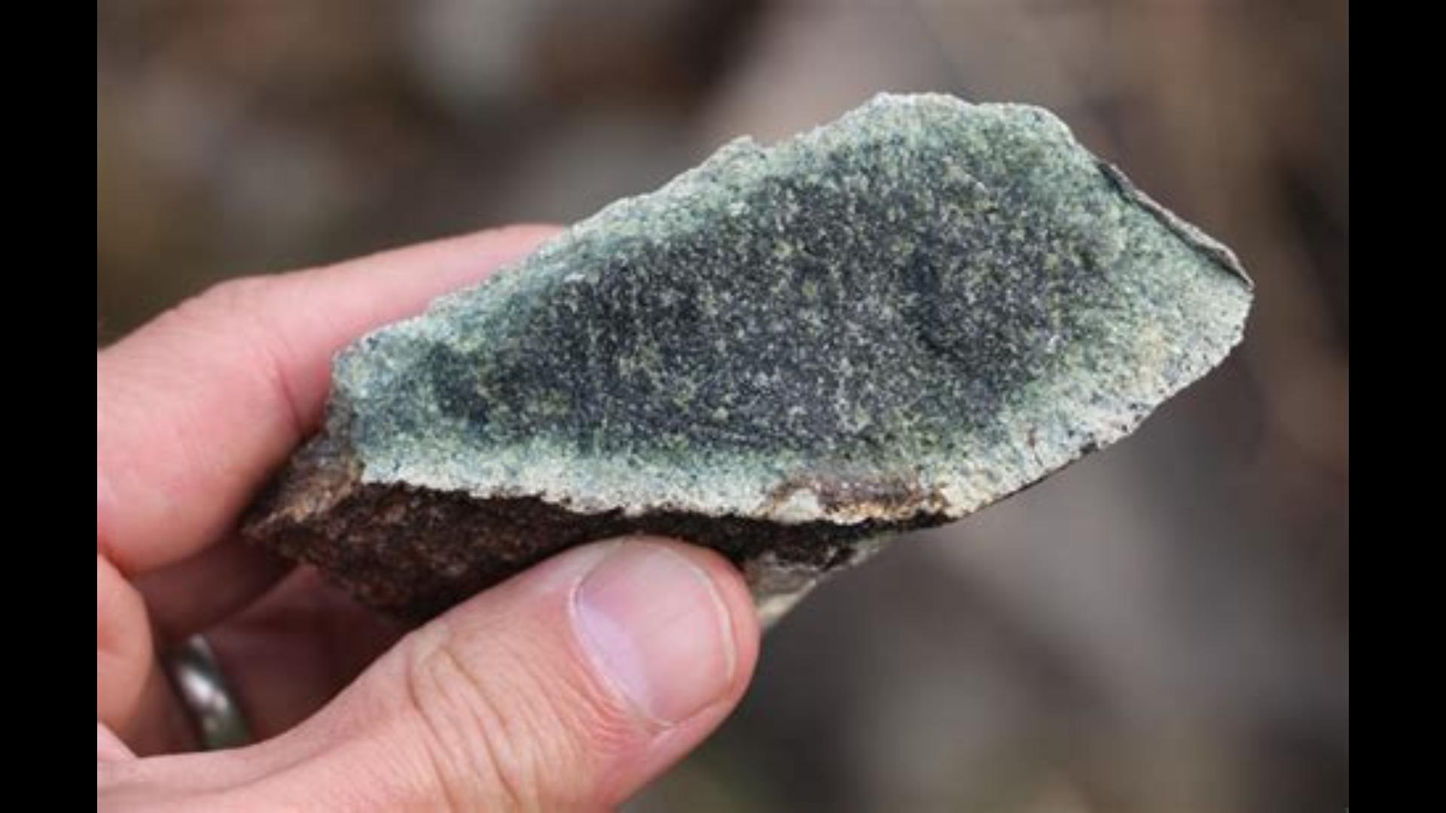rock: (245, 95, 1246, 620)
